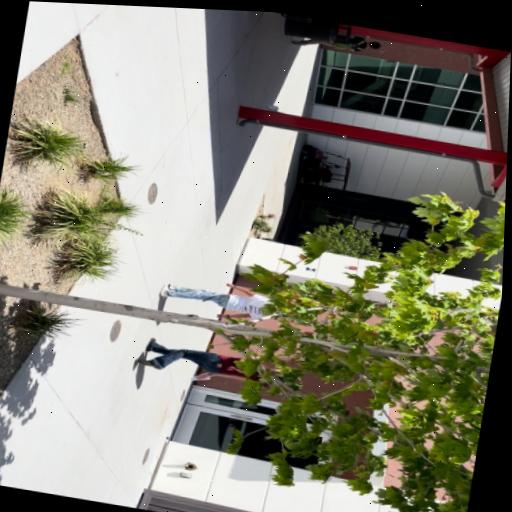target6: (305, 266, 316, 273)
